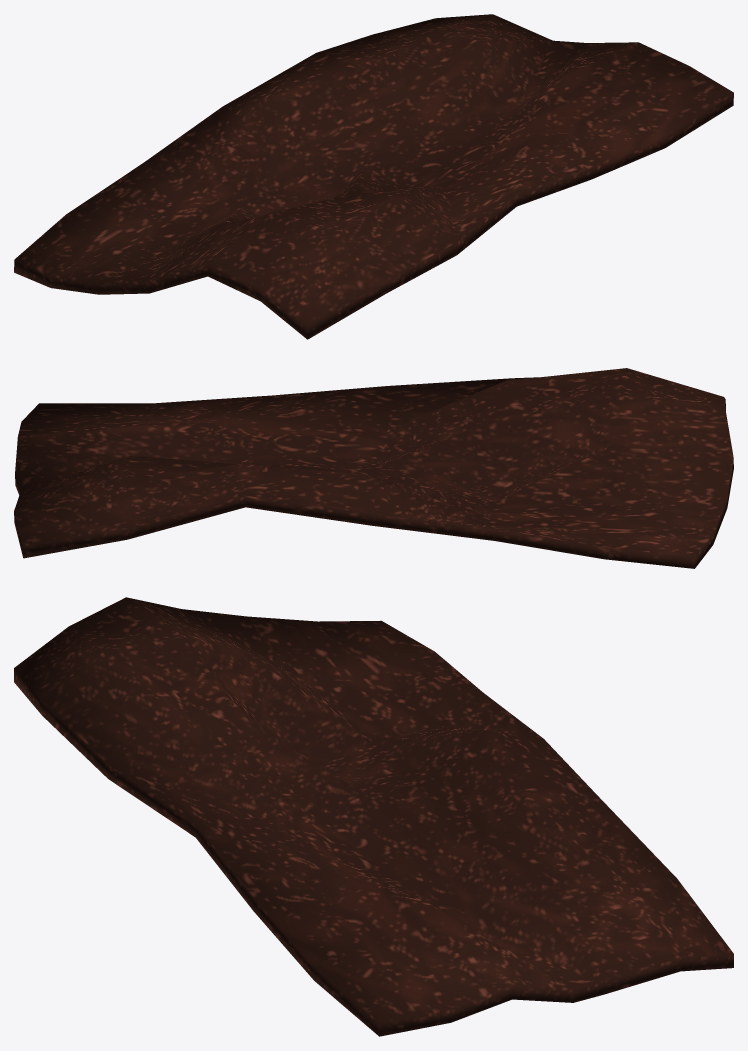
File: yakiniku_s3.glb
The picture shows the model from 3 angles, top to bottom: view 1: azimuth 30°, elevation 25°; view 2: azimuth 150°, elevation 25°; view 3: azimuth 270°, elevation 25°; orthographic projection. The views are drawn at different scales.
Visible parts, largest first — view 1: yakiniku.002; view 2: yakiniku.002; view 3: yakiniku.002.
Part boxes in pixels (left/top/right/bottom): yakiniku.002: left=14, top=14, right=733, bottom=339; yakiniku.002: left=14, top=368, right=733, bottom=568; yakiniku.002: left=14, top=597, right=733, bottom=1036.
Size of the model in its own units: 0.0832 by 0.0108 by 0.0643.
Materials: 1 (1 with a texture image).
